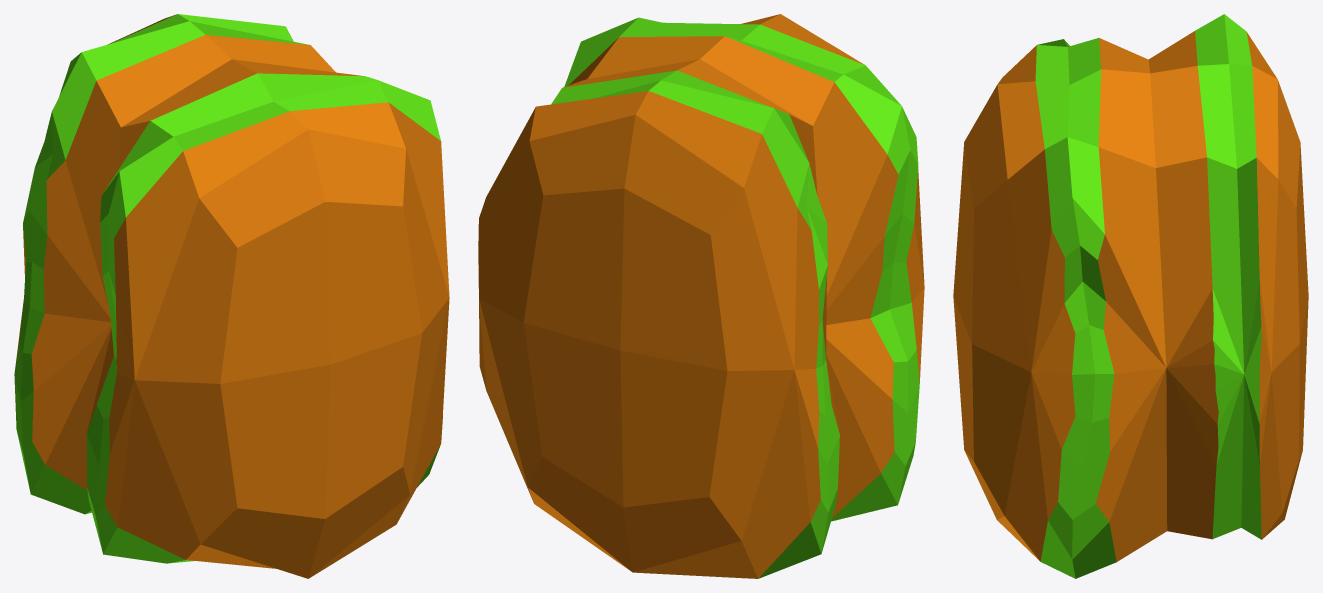
The model's file is dirt_wall.glb.
3 renders of one model, left to right at view 1: azimuth 30°, elevation 25°; view 2: azimuth 150°, elevation 25°; view 3: azimuth 270°, elevation 25°, orthographic. The views are drawn at different scales.
Parts seen in each view (by area): view 1: Cube; view 2: Cube; view 3: Cube.
Boxes of the visible parts, box(x1,y1,x2,y2) form: Cube: box(14, 14, 449, 578); Cube: box(478, 14, 924, 578); Cube: box(953, 14, 1308, 578).
Size of the model in its own units: 2.04 by 2.76 by 1.91.
